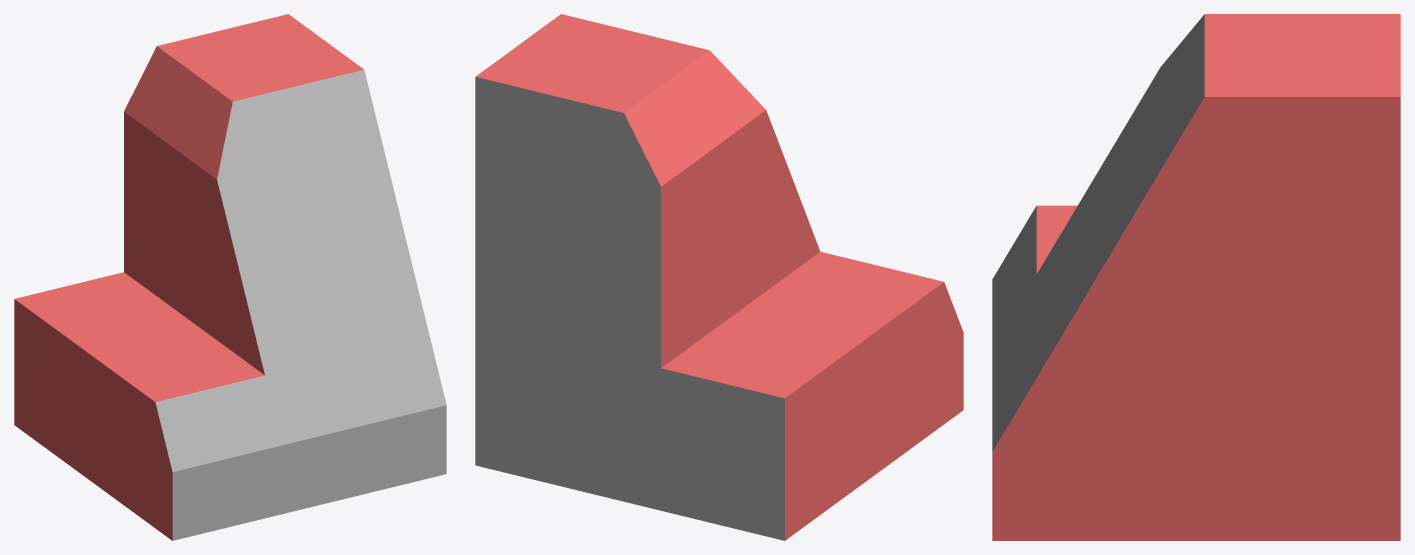
3 renders of one model, left to right at view 1: azimuth 30°, elevation 25°; view 2: azimuth 150°, elevation 25°; view 3: azimuth 270°, elevation 25°, orthographic. The views are drawn at different scales.
Visible parts, largest first — view 1: 37-6.SLDPRT; view 2: 37-6.SLDPRT; view 3: 37-6.SLDPRT.
Part boxes in pixels (bbox=[...]): 37-6.SLDPRT: bbox=[14, 14, 446, 540]; 37-6.SLDPRT: bbox=[475, 14, 963, 540]; 37-6.SLDPRT: bbox=[992, 14, 1400, 540].
Bounding box in the file's own units: 0.025 × 0.03 × 0.025.
